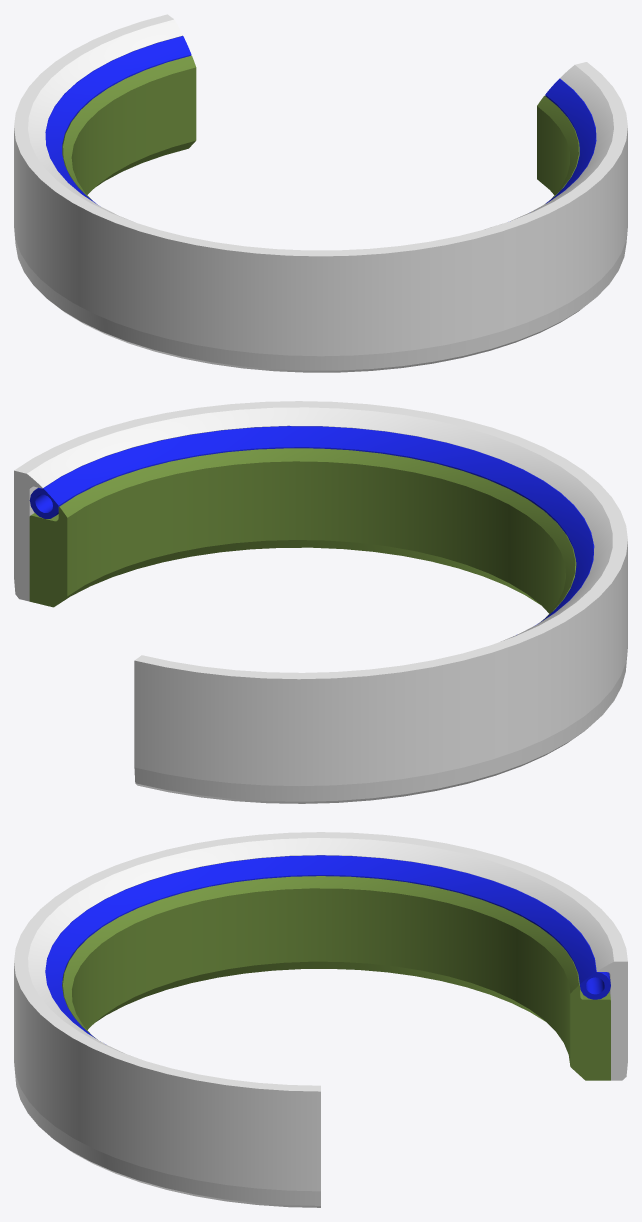
File: X-238021-08-01_H8_SEAT.glb
3 renders of one model, top to bottom at view 1: azimuth 30°, elevation 25°; view 2: azimuth 150°, elevation 25°; view 3: azimuth 270°, elevation 25°, orthographic. The views are drawn at different scales.
Parts seen in each view (by area): view 1: Solid1 (×3); view 2: Solid1 (×3); view 3: Solid1 (×3).
Part boxes in pixels (box(x1,y1,x2,y2)): Solid1 (×3): box(14, 14, 627, 372); Solid1 (×3): box(14, 401, 627, 803); Solid1 (×3): box(14, 832, 627, 1207).
Size of the model in its own units: 0.1272 by 0.0271 by 0.1272.
